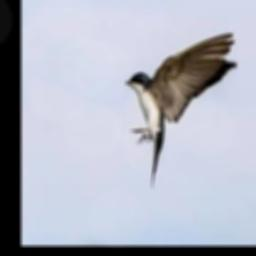Swallow: (126, 33, 238, 189)
